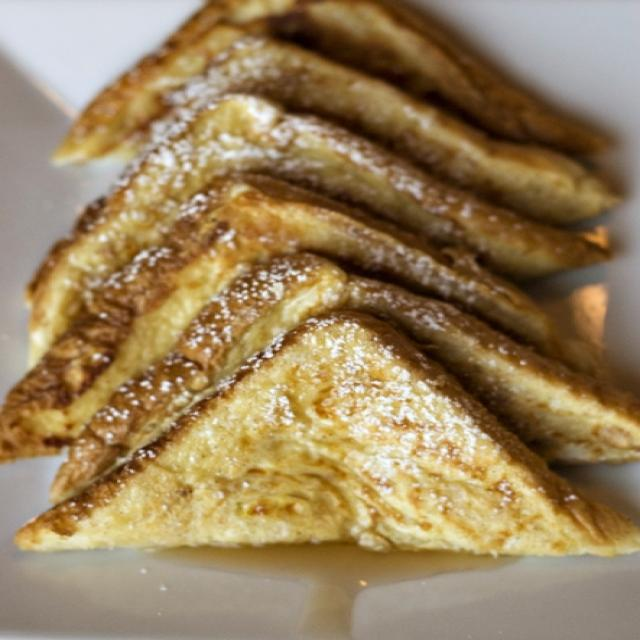面包点心: (22, 10, 611, 607)
